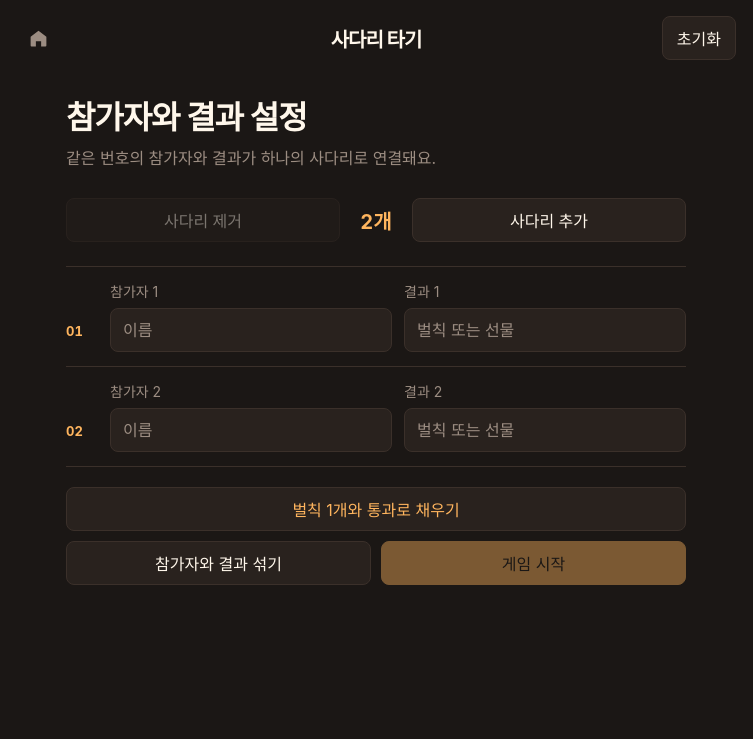
LadderPage › 설정 변경은 기존 이름과 결과가 채워진 설정으로 돌아간다
Type "짱구" into the field labelled "참가자 1" at (251, 330), box [110,308,392,352]
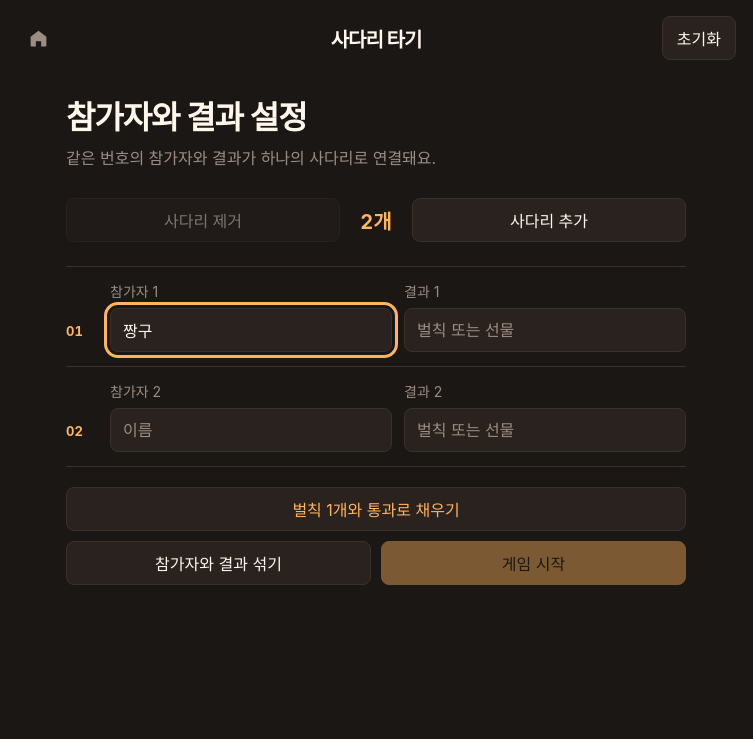
Type "철수" into the field labelled "참가자 2" at (251, 430), box [110,408,392,452]
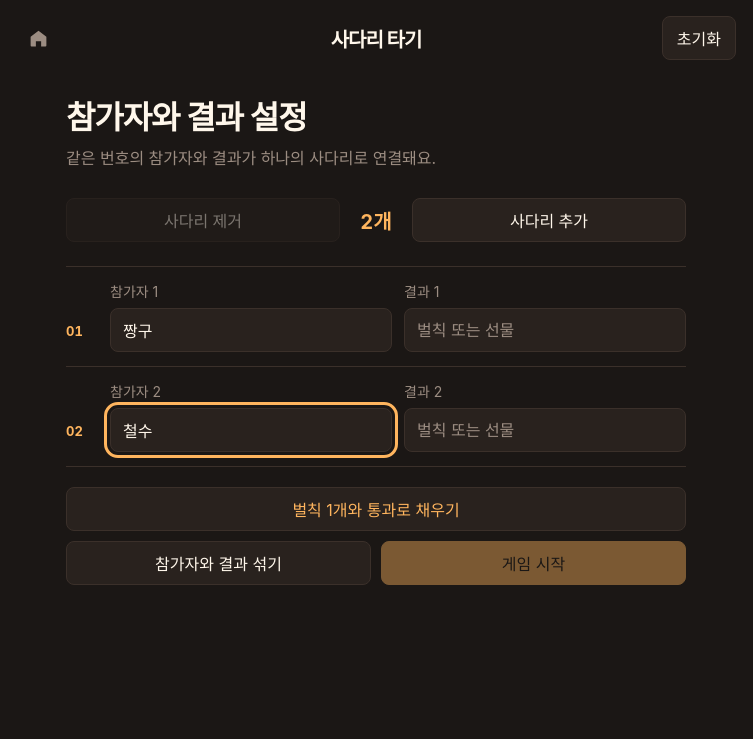
Type "통과" into the field labelled "결과 1" at (545, 330), box [404,308,686,352]
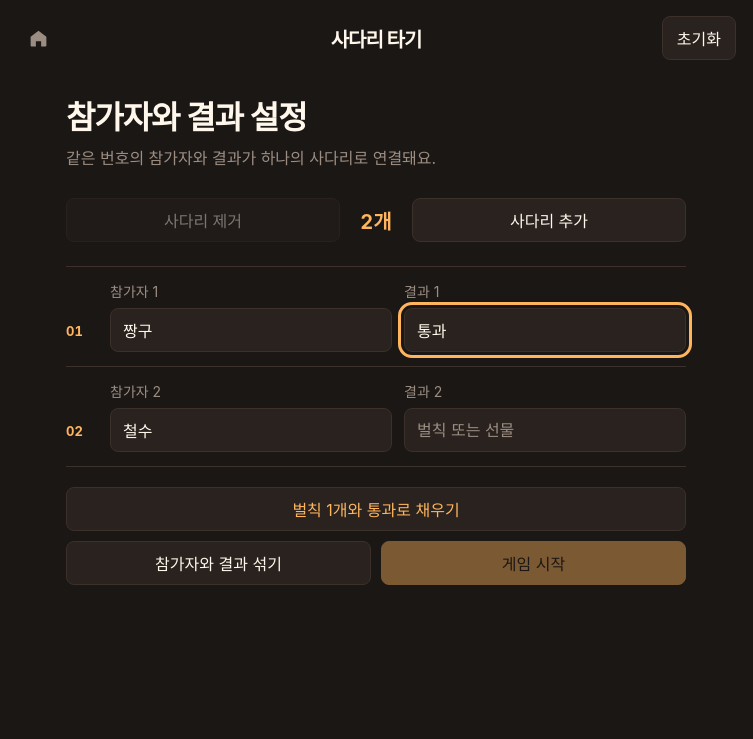
Type "벌칙" into the field labelled "결과 2" at (545, 430), box [404,408,686,452]
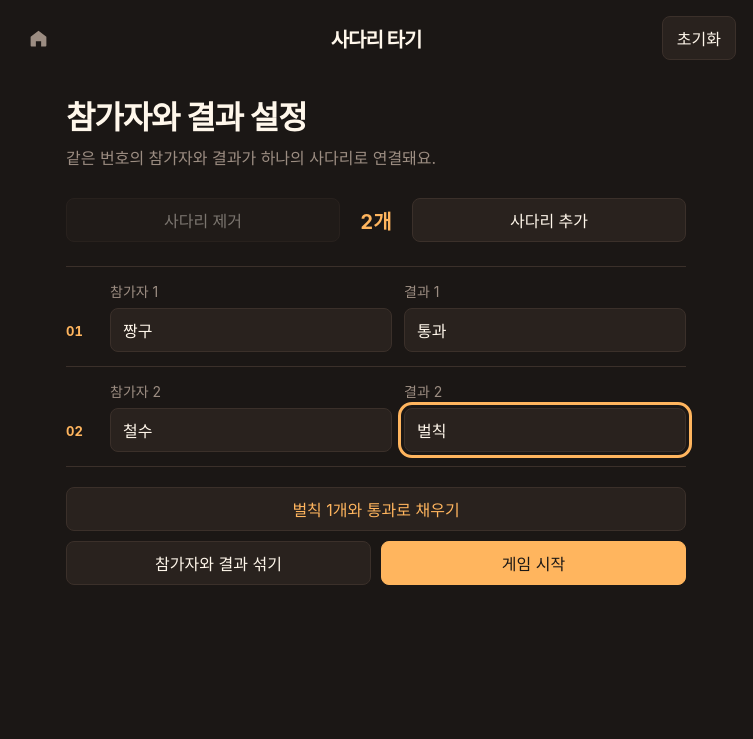
Click the button "게임 시작" at (534, 563), box [381,541,686,585]
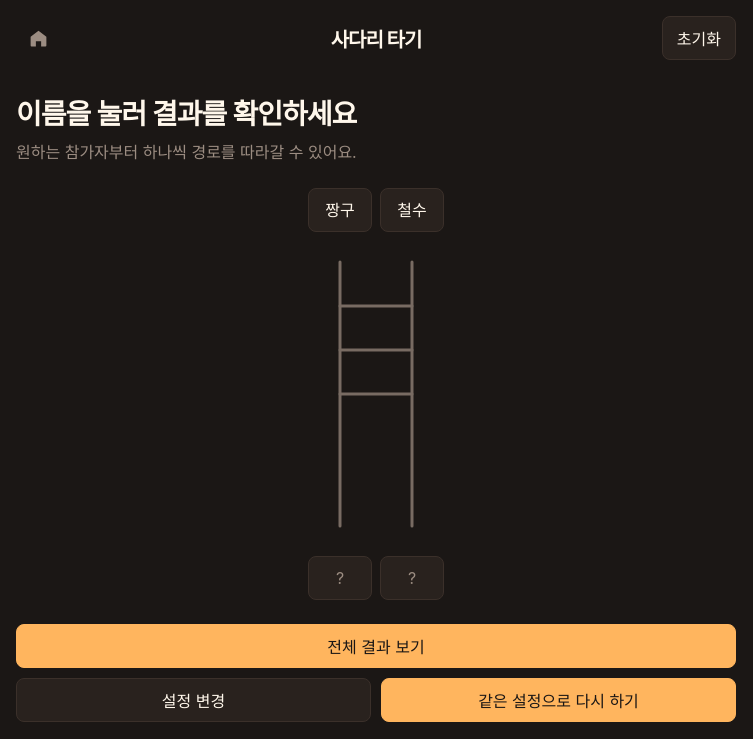
Click the button "설정 변경" at (194, 700), box [16,678,371,722]
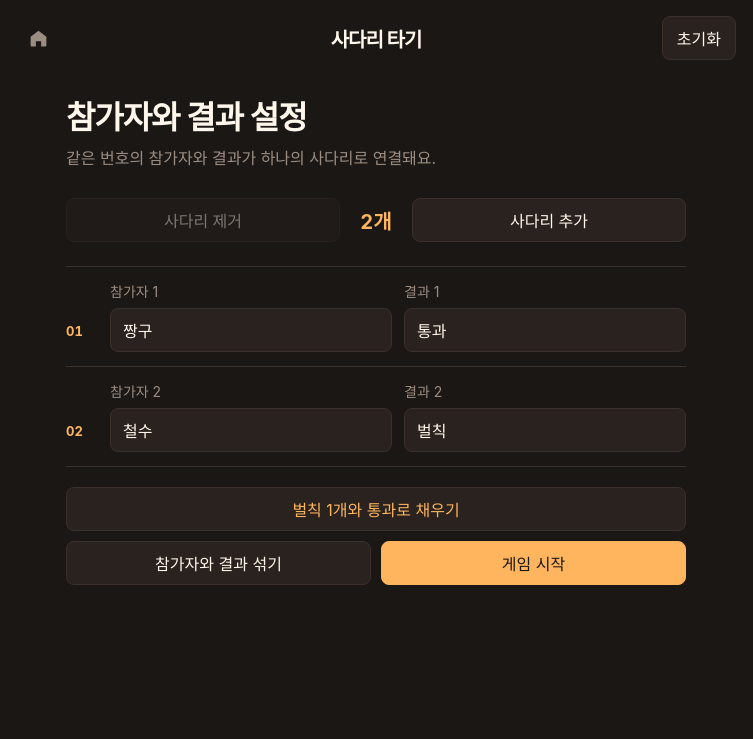
Expected: the field labelled "참가자 1" holds "짱구", [110,308,392,352]
Expected: the field labelled "참가자 2" holds "철수", [110,408,392,452]
Expected: the field labelled "결과 1" holds "통과", [404,308,686,352]
